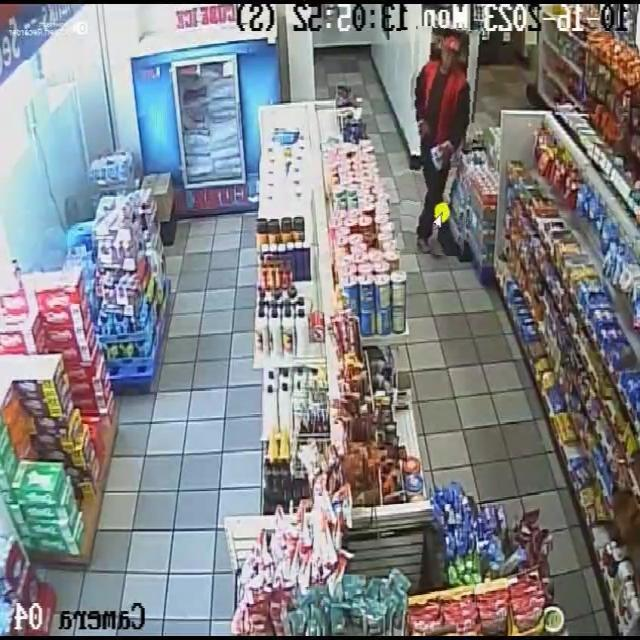Normal: (401, 26, 478, 255)
